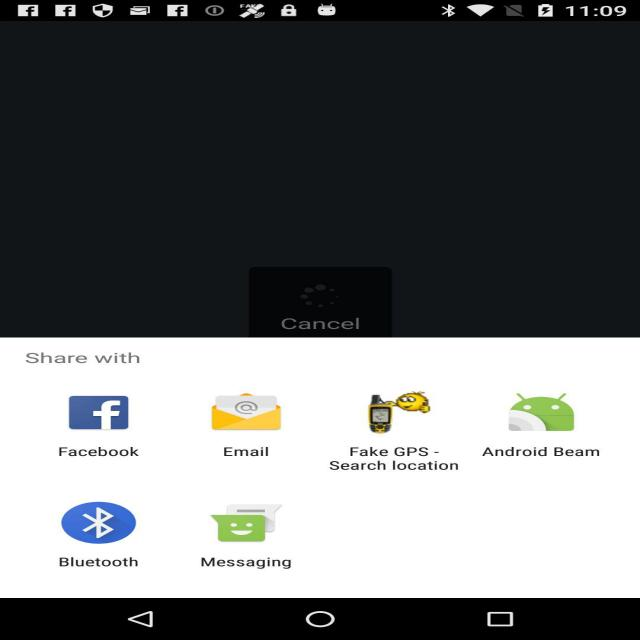icon: (478, 353, 616, 479), (322, 360, 466, 477), (186, 363, 312, 474), (185, 493, 329, 584), (52, 479, 176, 584), (42, 374, 180, 465)
